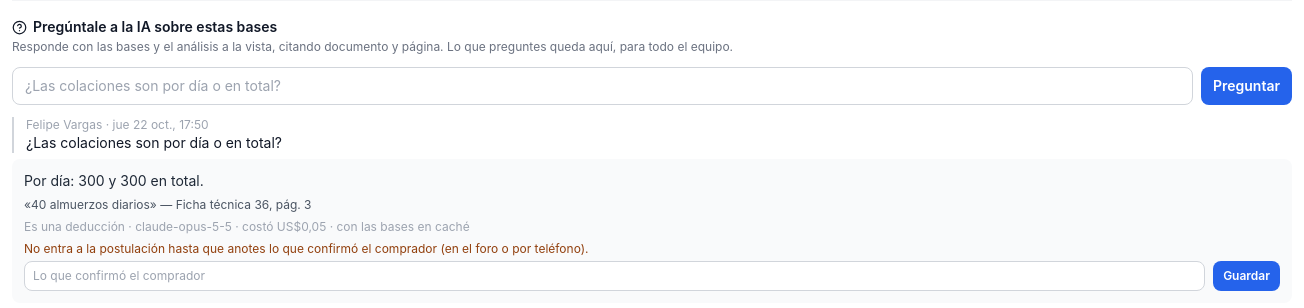
Test case: Pregúntale a la IA sobre estas bases › una deducción no entra a la postulación hasta anotar lo que confirmó el comprador; al guardarlo, entra
Expected: the text "No entra a la postulación hasta que anotes" is shown, top-left (24, 241), bottom-right (589, 256)
Expected: the text "La postulación usa" is not shown
Type "Son 100 AM y 100 PM por día (Rodrigo Pérez)." into the field labelled "Lo que confirmó el comprador" at (615, 276), box top-left (24, 261), bottom-right (1205, 291)
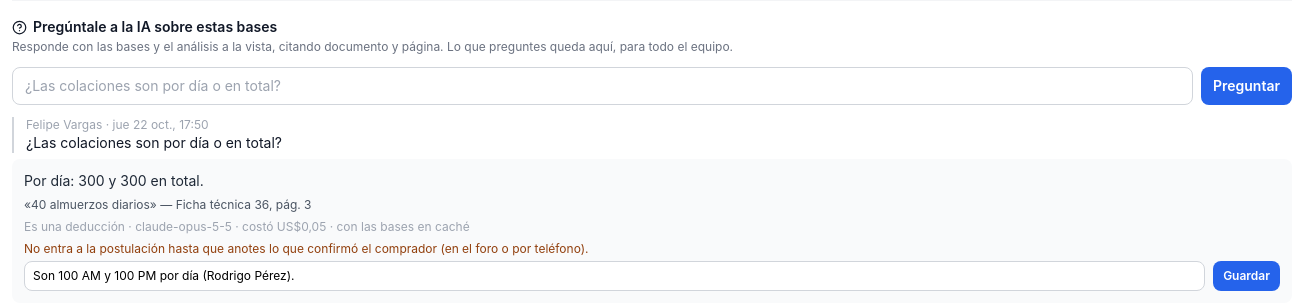
Click the button "Guardar" at (1247, 276), box top-left (1213, 261), bottom-right (1280, 291)
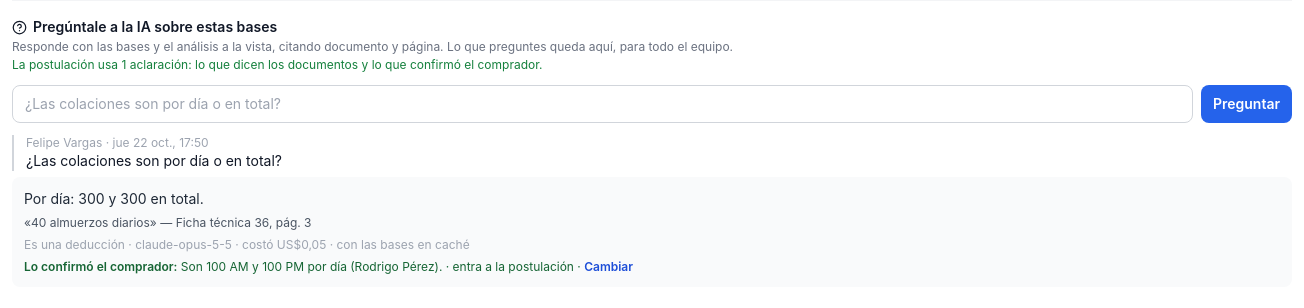
Result: the text "Lo confirmó el comprador:" is shown at top-left (24, 259), bottom-right (177, 274)
Result: the text "La postulación usa 1 aclaración" is shown at top-left (12, 57), bottom-right (542, 72)
